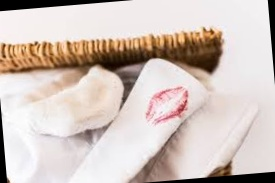lipstick: (145, 85, 192, 125)
